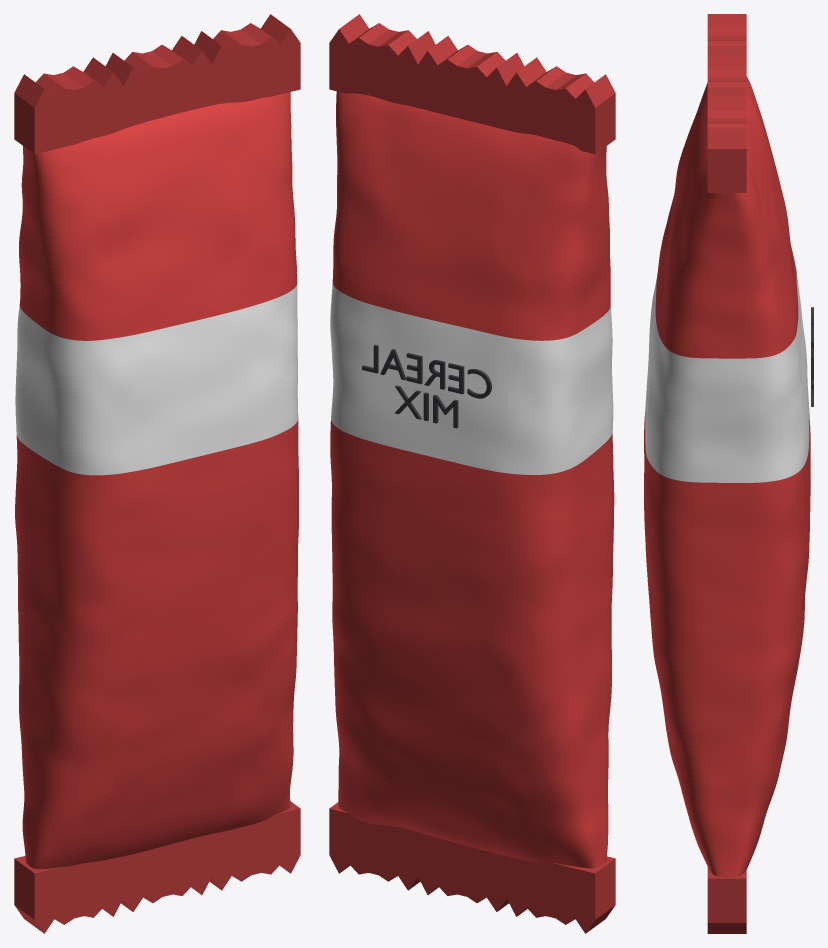
Rendered from Snacks.glb.
3 views of the same model, side by side, from view 1: azimuth 30°, elevation 25°; view 2: azimuth 150°, elevation 25°; view 3: azimuth 270°, elevation 25° (orthographic). The views are drawn at different scales.
Visible parts, largest first — view 1: Snack_Bag, Snack_SealTop, Snack_SealBot; view 2: Snack_Bag, Snack_SealTop, Snack_SealBot, Snack_Text; view 3: Snack_Bag, Snack_SealTop, Snack_SealBot.
Boxes of the visible parts, x1,y1,x2,y2 form: Snack_Bag: [15, 92, 298, 869]; Snack_SealTop: [14, 14, 300, 154]; Snack_SealBot: [14, 801, 300, 933]; Snack_Bag: [330, 91, 614, 868]; Snack_SealTop: [329, 14, 615, 154]; Snack_SealBot: [329, 802, 615, 933]; Snack_Text: [362, 344, 491, 428]; Snack_Bag: [644, 76, 810, 876]; Snack_SealTop: [707, 14, 746, 192]; Snack_SealBot: [707, 867, 746, 933].
Size of the model in its own units: 0.6 by 1.82 by 0.3483.
